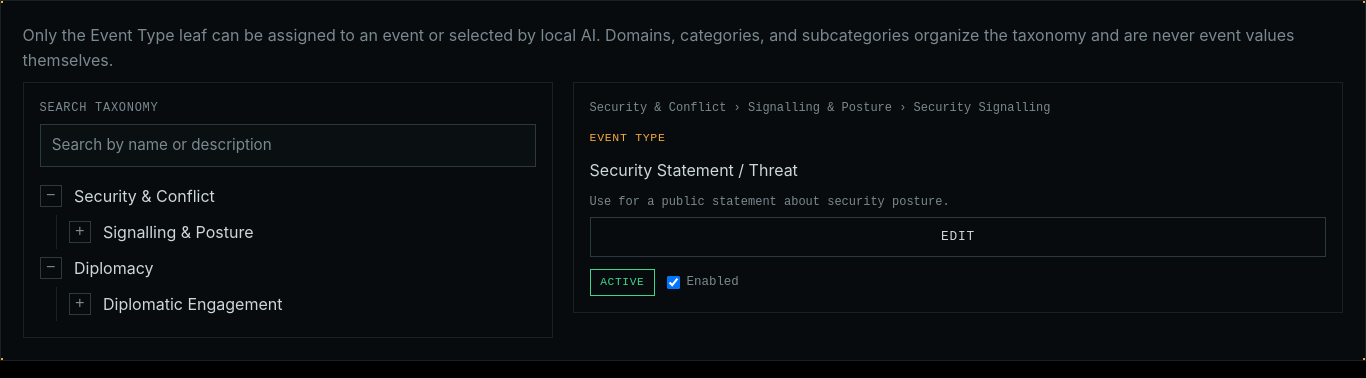
Test: EventTypeSettings › searches by name or description and expands matching ancestors
Type "Diplomatic Statement" into the field labelled "Search taxonomy". click: (288, 146)
box: [40, 124, 536, 168]
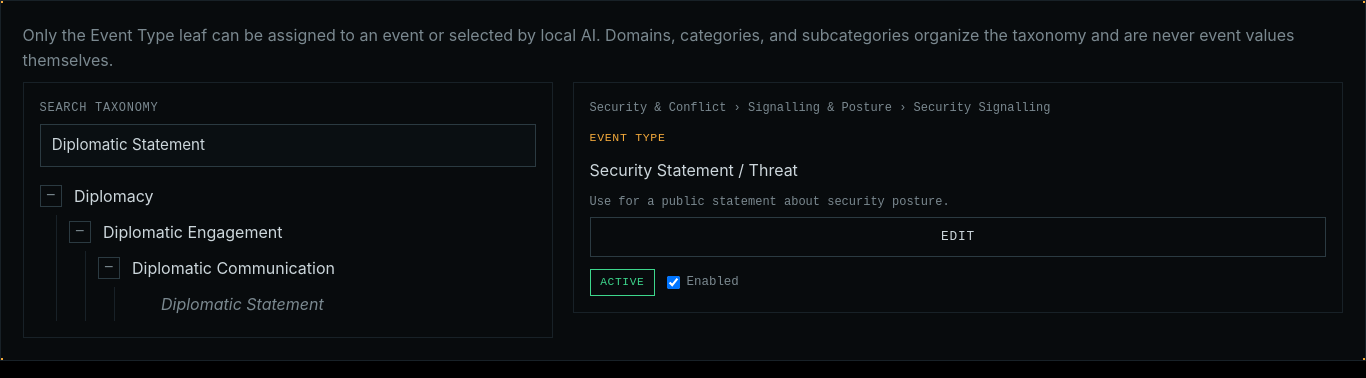
Expected: the button "Diplomacy" is shown, [68, 180, 536, 213]
Expected: the button "Diplomatic Communication" is shown, [126, 251, 536, 285]
Expected: the button "Diplomatic Statement" is shown, [155, 287, 536, 321]
